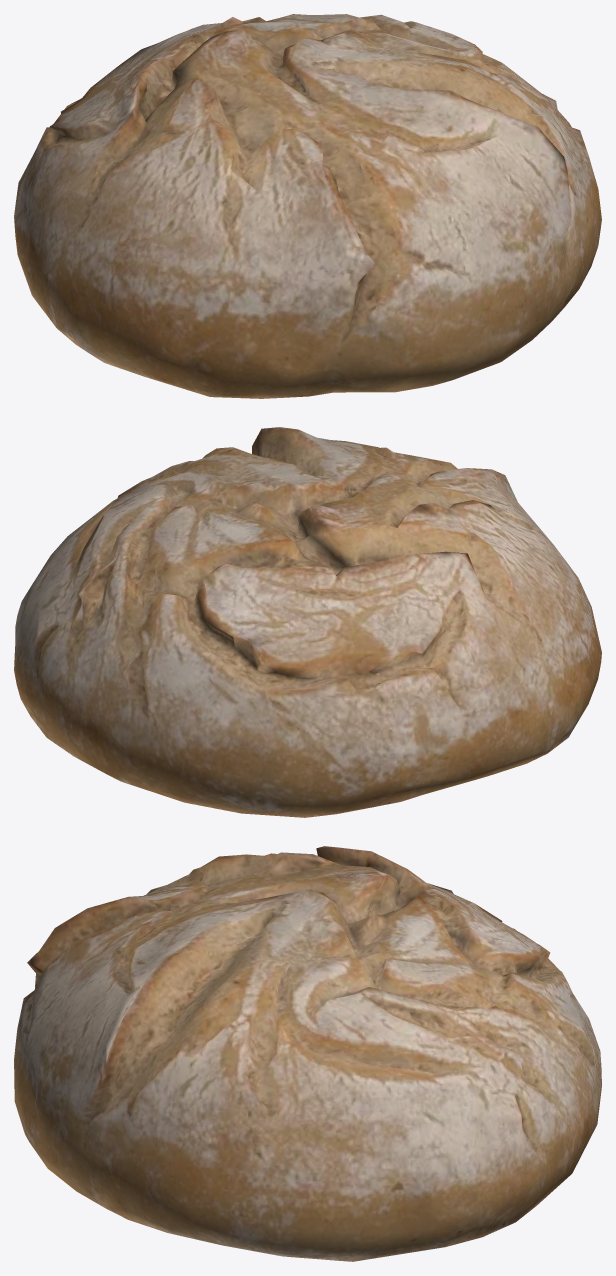
The model's file is bread_b.glb.
3 renders of one model, top to bottom at view 1: azimuth 30°, elevation 25°; view 2: azimuth 150°, elevation 25°; view 3: azimuth 270°, elevation 25°, orthographic. The views are drawn at different scales.
Visible parts, largest first — view 1: whplffy_LOD0_TIER2_000; view 2: whplffy_LOD0_TIER2_000; view 3: whplffy_LOD0_TIER2_000.
Part boxes in pixels (<box>): whplffy_LOD0_TIER2_000: <box>14,14,601,398</box>; whplffy_LOD0_TIER2_000: <box>14,427,601,817</box>; whplffy_LOD0_TIER2_000: <box>14,846,601,1261</box>.
Bounding box in the file's own units: 0.1687 × 0.0781 × 0.1613.
1 material, 1 textured.
